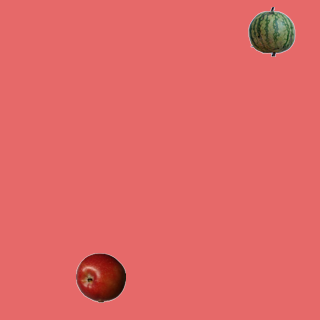Apple Braeburn: (75, 252, 125, 302)
Watermelon: (246, 6, 296, 56)
